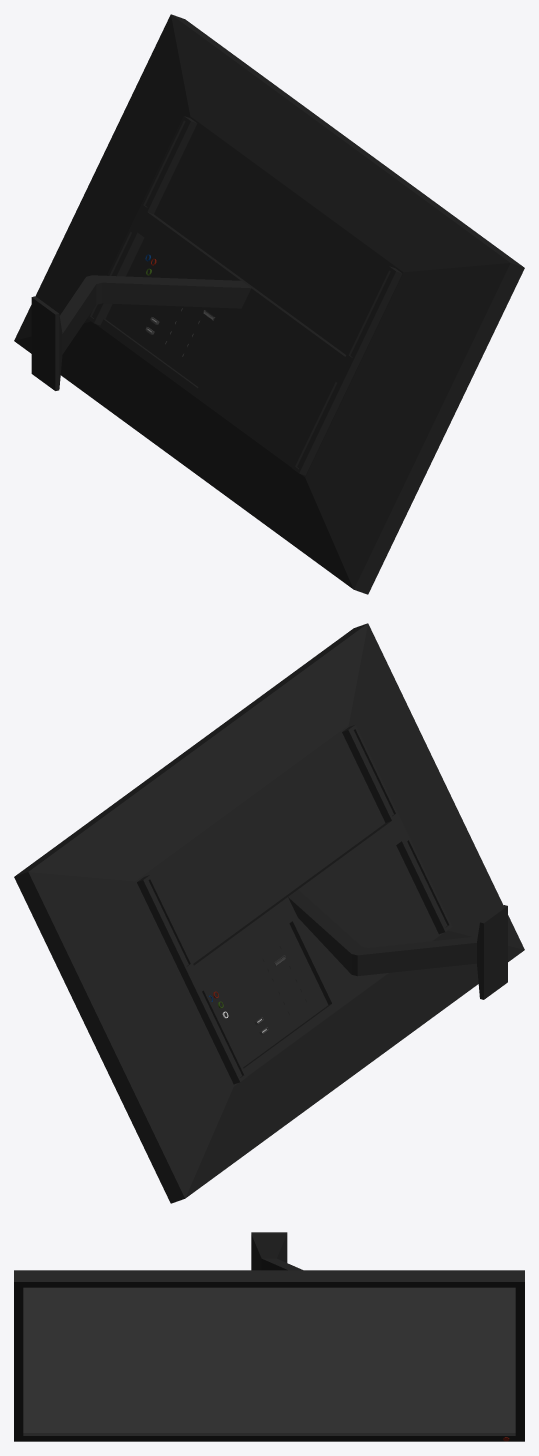
The model's file is TV_WithArm_bent_Off.fbx.
The picture shows the model from 3 angles, top to bottom: view 1: azimuth 30°, elevation 25°; view 2: azimuth 150°, elevation 25°; view 3: azimuth 270°, elevation 25°; orthographic projection. The views are drawn at different scales.
Visible parts, largest first — view 1: Cube; view 2: Cube; view 3: Cube.
Part boxes in pixels (left/top/right/bottom): Cube: left=14, top=14, right=524, bottom=594; Cube: left=14, top=623, right=524, bottom=1203; Cube: left=14, top=1232, right=524, bottom=1441.
Bounding box in the file's own units: 322 × 293 × 608.
